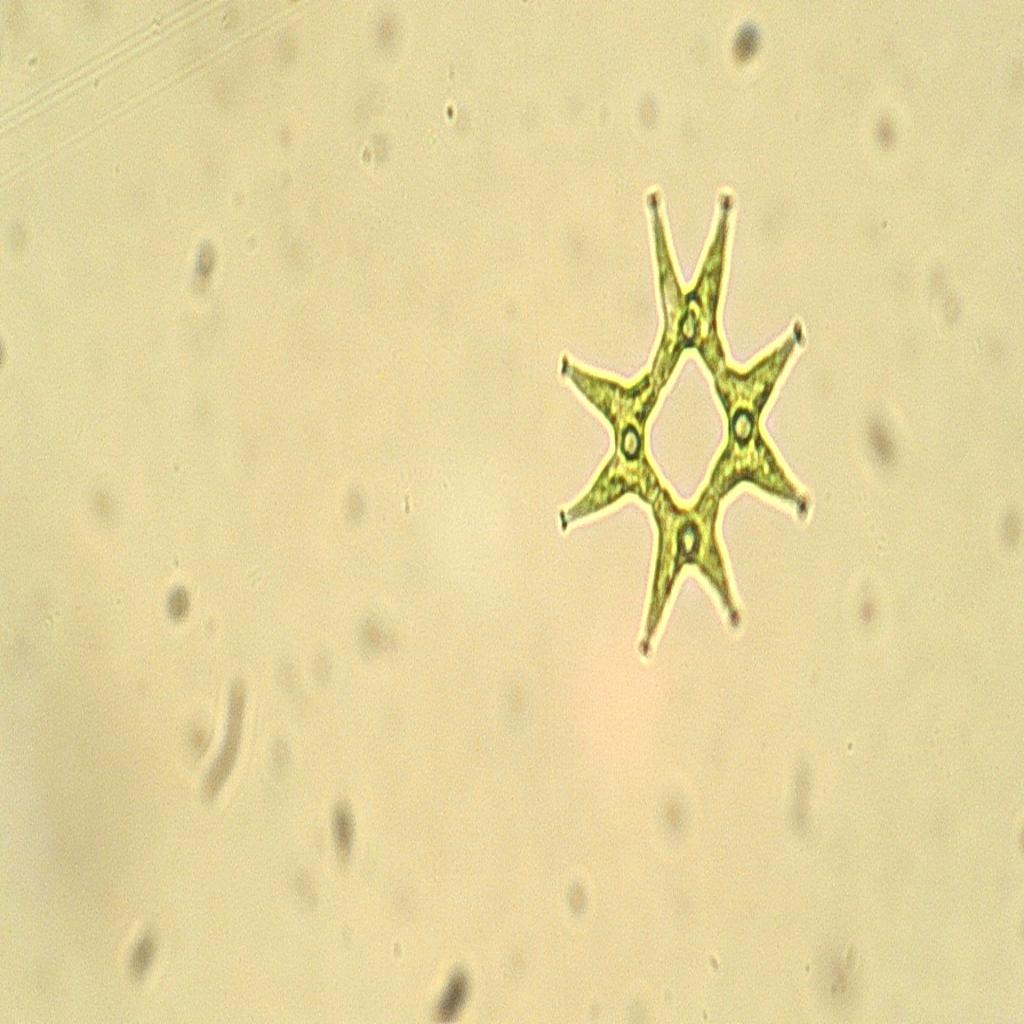Pediastrum_75O: (530, 176, 846, 695)
